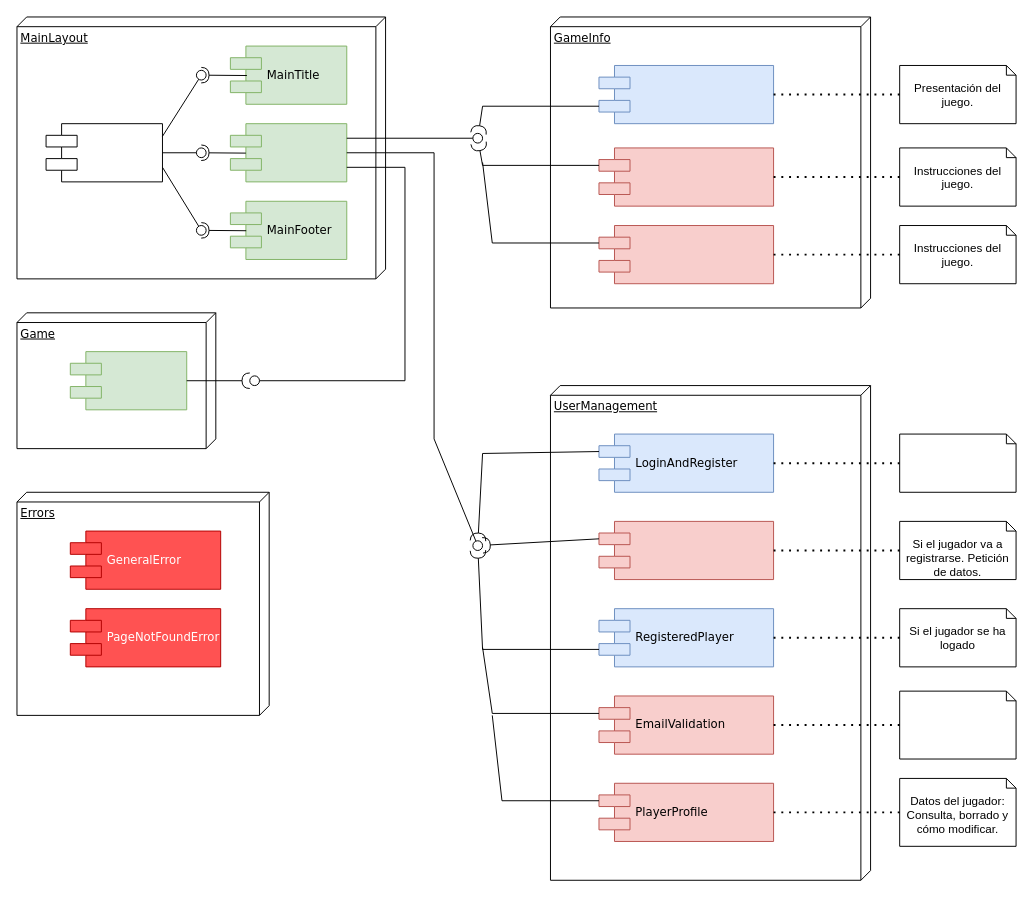
This 1033x897 diagram has some shape labels left out. Here are the shapes that lost their labels. From the top down, the centre of each, then its label:
At point (686, 94): "BriefGameDescription".
At point (103, 152): "App".
At point (288, 152): "MainHome".
At point (686, 176): "GameMeaning".
At point (686, 254): "LearnToPlay".
At point (128, 380): "MainGame".
At point (957, 462): "Si el usuario no se ha logado. Se pide login o registro.".
At point (686, 550): "NewRecord".
At point (957, 724): "Checkea la validación de email y responde si fue bien o mal.".
